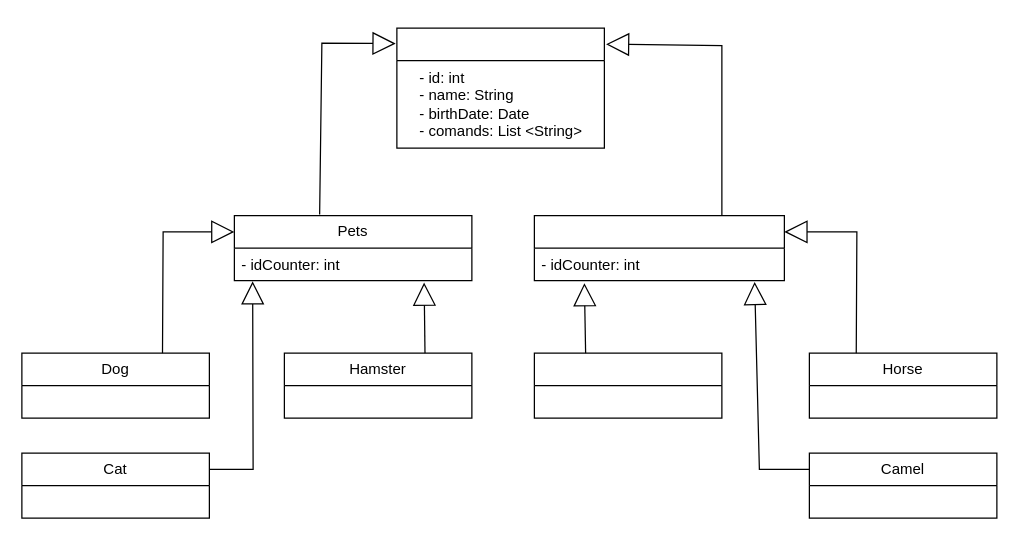
Some shapes in this 1019 by 540 pixel diagram are drawn without their labels. Here are the shapes that lost their labels. From the top down, the box of each, then its label:
(396, 27, 604, 148): <<Abstract>> animals.animal_species
(533, 214, 784, 281): Pack animals.animal_species
(533, 352, 722, 418): Donkey
